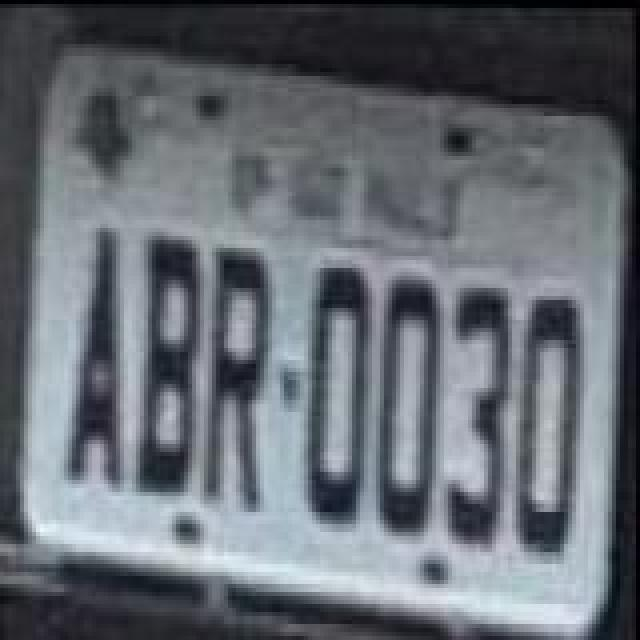3: (442, 280, 518, 552)
A: (62, 220, 126, 496)
B: (128, 232, 204, 496)
O: (512, 294, 592, 558), (306, 258, 382, 534), (370, 270, 446, 534)
R: (200, 242, 276, 518)
